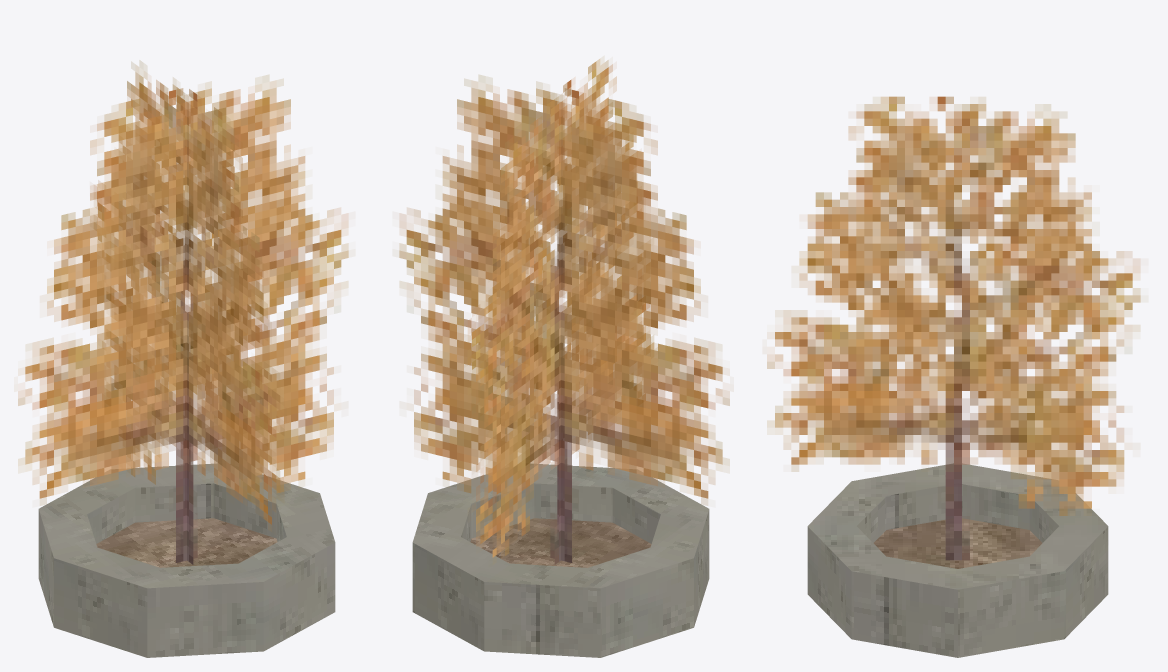
File: kenney-retro-urban-tree-park-large.glb
3 renders of one model, left to right at view 1: azimuth 30°, elevation 25°; view 2: azimuth 150°, elevation 25°; view 3: azimuth 270°, elevation 25°, orthographic. The views are drawn at different scales.
Visible parts, largest first — view 1: tree-park-large; view 2: tree-park-large; view 3: tree-park-large.
Part boxes in pixels (<box>): tree-park-large: <box>18,61,348,657</box>; tree-park-large: <box>399,57,729,657</box>; tree-park-large: <box>767,96,1140,657</box>.
Bounding box in the file's own units: 1.04 × 1.46 × 1.04.
3 materials, 3 textured.
